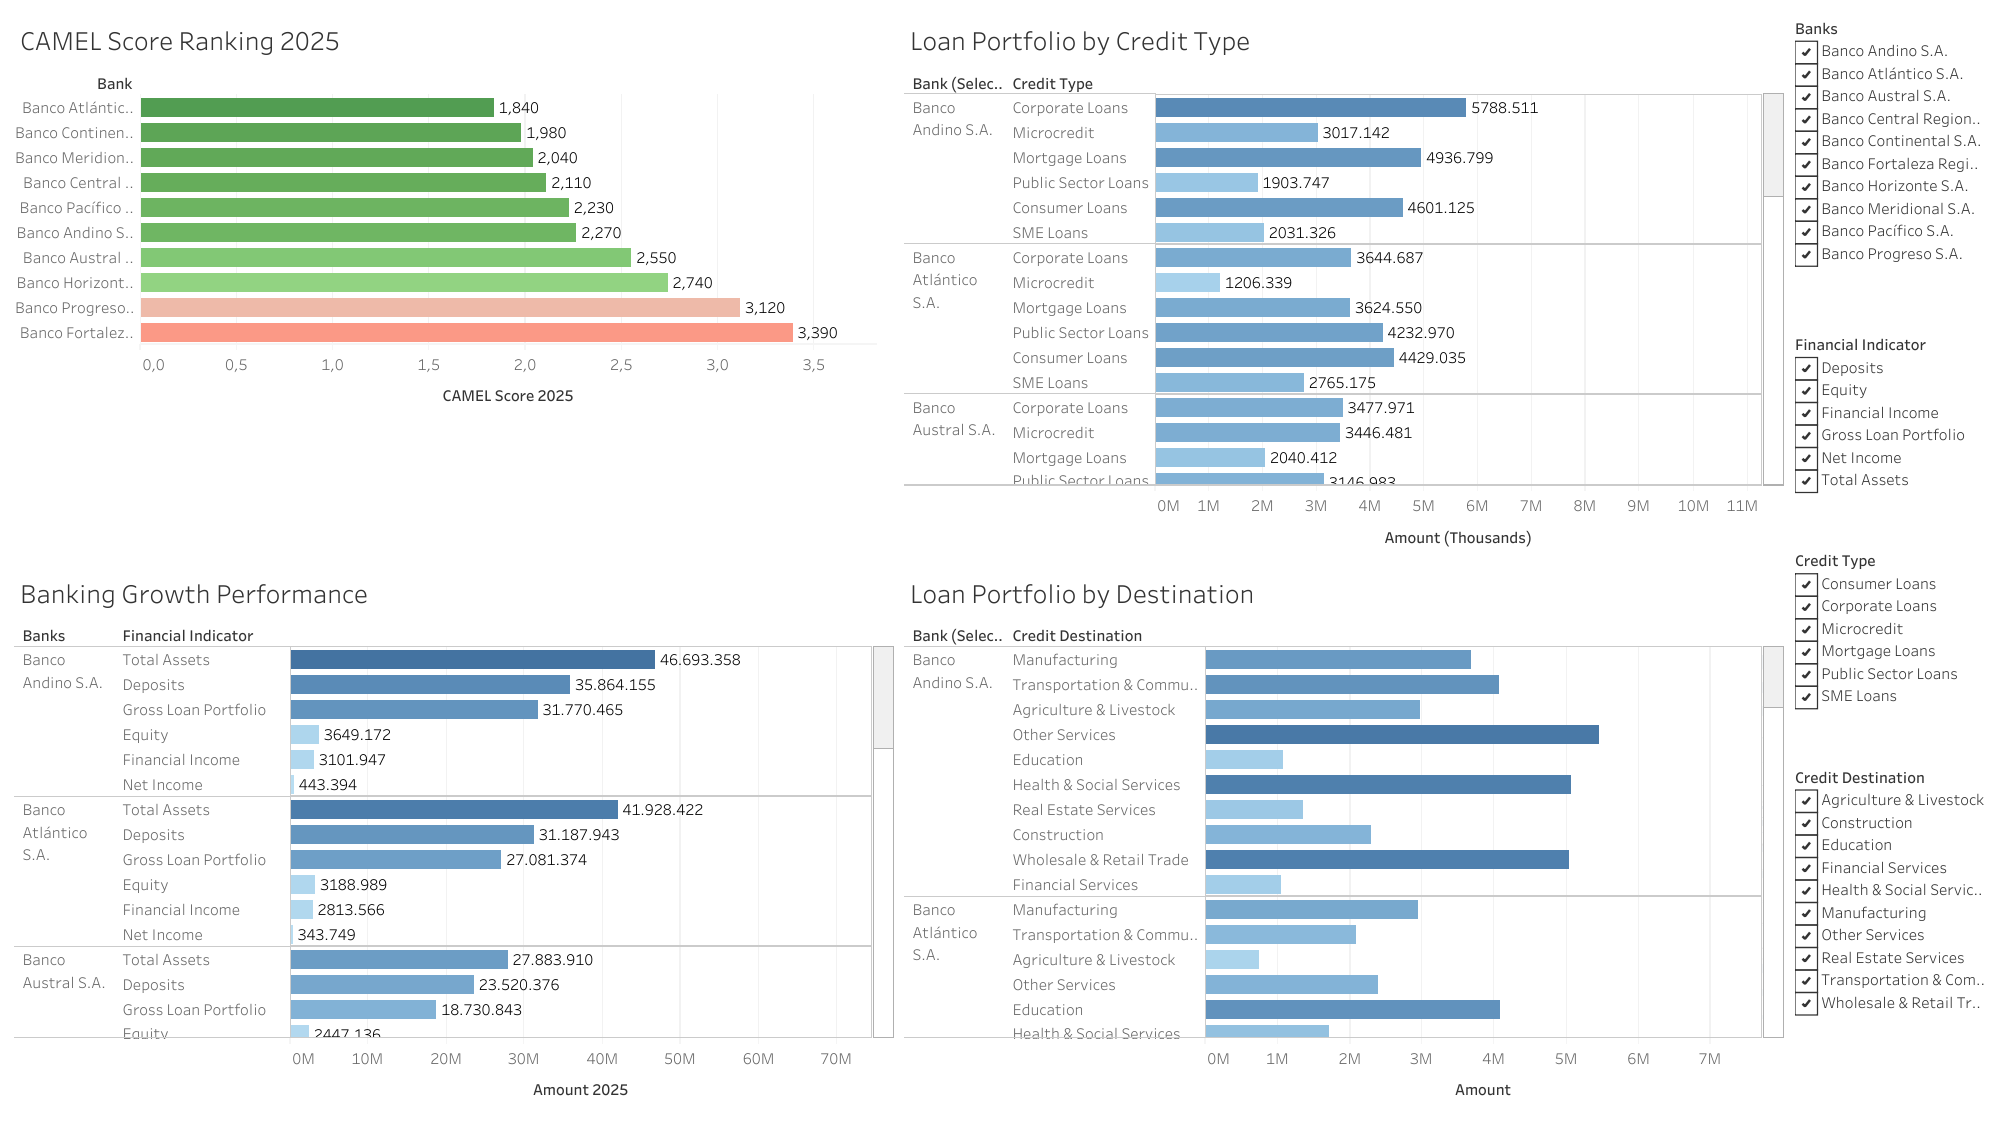

Layout of this report page (visuals, bound fields, positions):
{"tool":"tableau","page":{"name":"Financial Data Restructuring & CAMEL Analysis — Regional Banking Sector","canvas":[1600,900],"ordinal":1},"visuals":[{"type":"worksheet","title":"CAMEL Score Ranking 2025","mark":"Automatic","rows":["Bank"],"cols":["CAMEL Score 2025"],"box":[8,8,712,442]},{"type":"worksheet","title":"Loan Portfolio by Credit Type","mark":"Automatic","rows":["Bank (Selector!Tipo!Credito)","Credit Type"],"cols":["Amount (Selector!Tipo!Credito)"],"box":[720,8,712,442]},{"type":"filter","title":"Banking Growth Performance","param":"[federated.0dd534w1w1v2c5160ktye0y4wjh9].[none:Bank (Selector!Crecimiento):nk]","box":[1432,8,160,245]},{"type":"filter","title":"Banking Growth Performance","param":"[federated.0dd534w1w1v2c5160ktye0y4wjh9].[none:Financial Indicator:nk]","box":[1432,253,160,197]},{"type":"worksheet","title":"Banking Growth Performance","mark":"Automatic","rows":["Bank (Selector!Crecimiento)","Financial Indicator"],"cols":["Amount 2025"],"box":[8,450,712,442]},{"type":"worksheet","title":"Loan Portfolio by Destination","mark":"Automatic","rows":["Bank (Selector!Destino)","Credit Destination"],"cols":["Amount"],"box":[720,450,712,442]},{"type":"filter","title":"Loan Portfolio by Credit Type","param":"[federated.0dd534w1w1v2c5160ktye0y4wjh9].[none:Credit Type:nk]","box":[1432,450,160,197]},{"type":"filter","title":"Loan Portfolio by Destination","param":"[federated.0dd534w1w1v2c5160ktye0y4wjh9].[none:Credit Destination:nk]","box":[1432,647,160,245]}]}

Visuals, with their boxes in screenshot pixels (x1, y1, x2, y2), scaled from the page's 1600x900 canvas onto the 1999x1124 screenshot:
"CAMEL Score Ranking 2025" worksheet: (10, 10, 900, 562)
"Loan Portfolio by Credit Type" worksheet: (900, 10, 1789, 562)
"Banking Growth Performance" filter: (1789, 10, 1989, 316)
"Banking Growth Performance" filter: (1789, 316, 1989, 562)
"Banking Growth Performance" worksheet: (10, 562, 900, 1114)
"Loan Portfolio by Destination" worksheet: (900, 562, 1789, 1114)
"Loan Portfolio by Credit Type" filter: (1789, 562, 1989, 808)
"Loan Portfolio by Destination" filter: (1789, 808, 1989, 1114)
